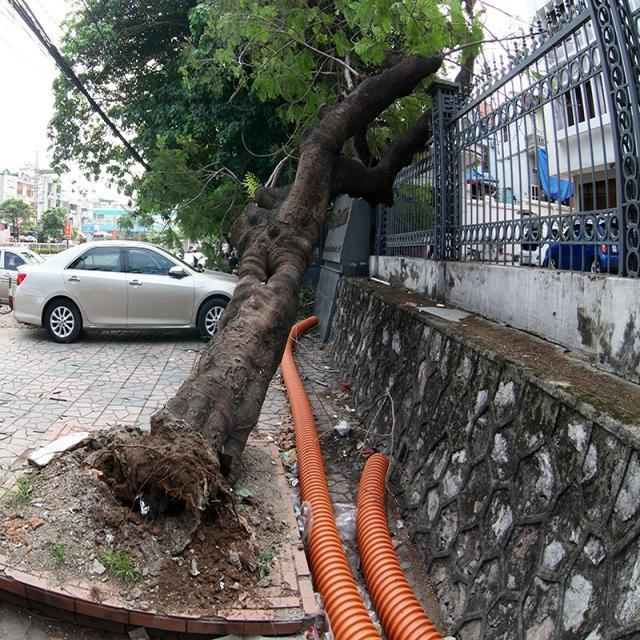fallen_object: (72, 0, 447, 559)
